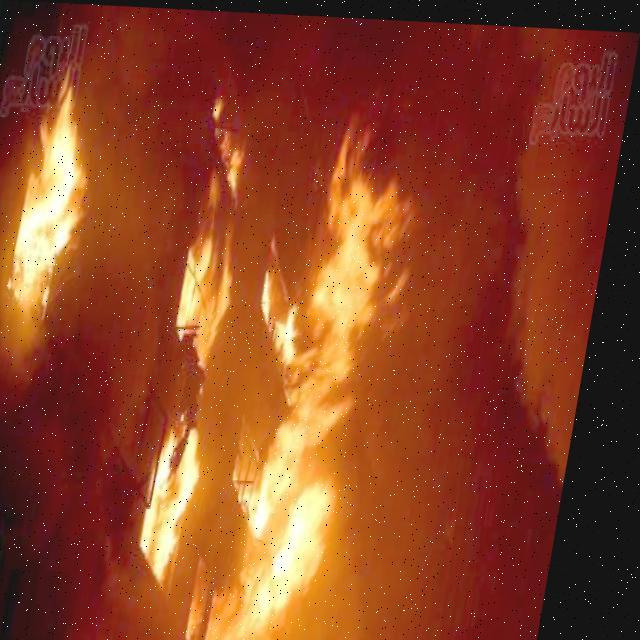Fire: (127, 99, 447, 639), (14, 54, 110, 320)
